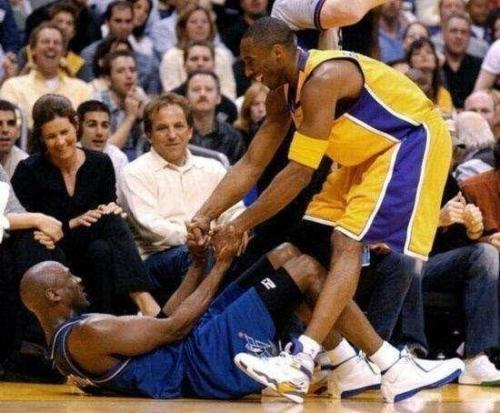10+: (2, 2, 500, 386)
down: (15, 236, 468, 402)
